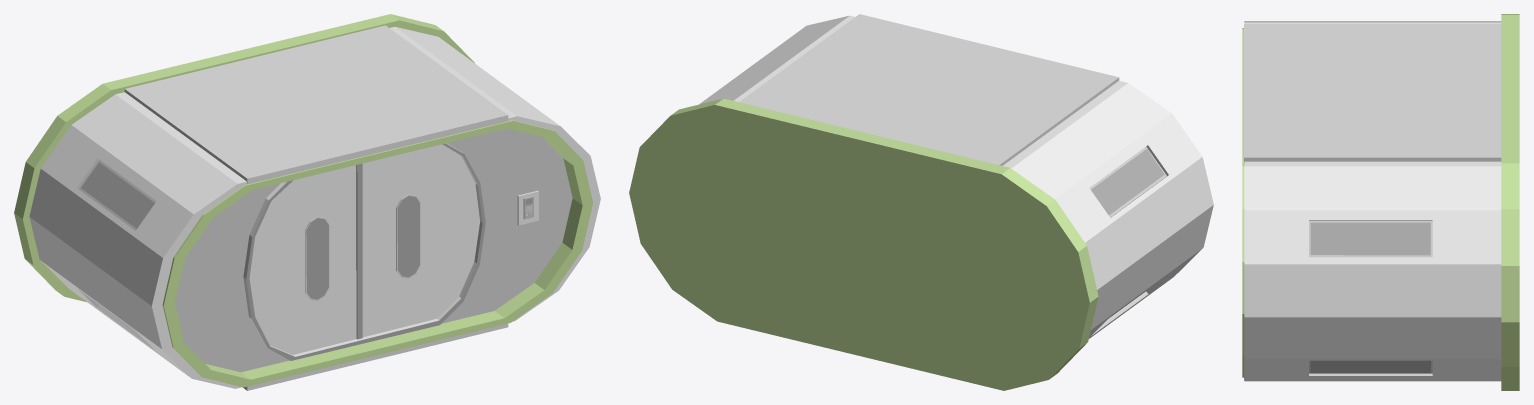
3 renders of one model, left to right at view 1: azimuth 30°, elevation 25°; view 2: azimuth 150°, elevation 25°; view 3: azimuth 270°, elevation 25°, orthographic. The views are drawn at different scales.
Parts seen in each view (by area): view 1: Cube_1; view 2: Cube_1; view 3: Cube_1.
Part boxes in pixels (<box>): Cube_1: <box>14,14,600,390</box>; Cube_1: <box>629,14,1213,390</box>; Cube_1: <box>1242,14,1519,390</box>.
Bounding box in the file's own units: 975 × 438 × 482.
